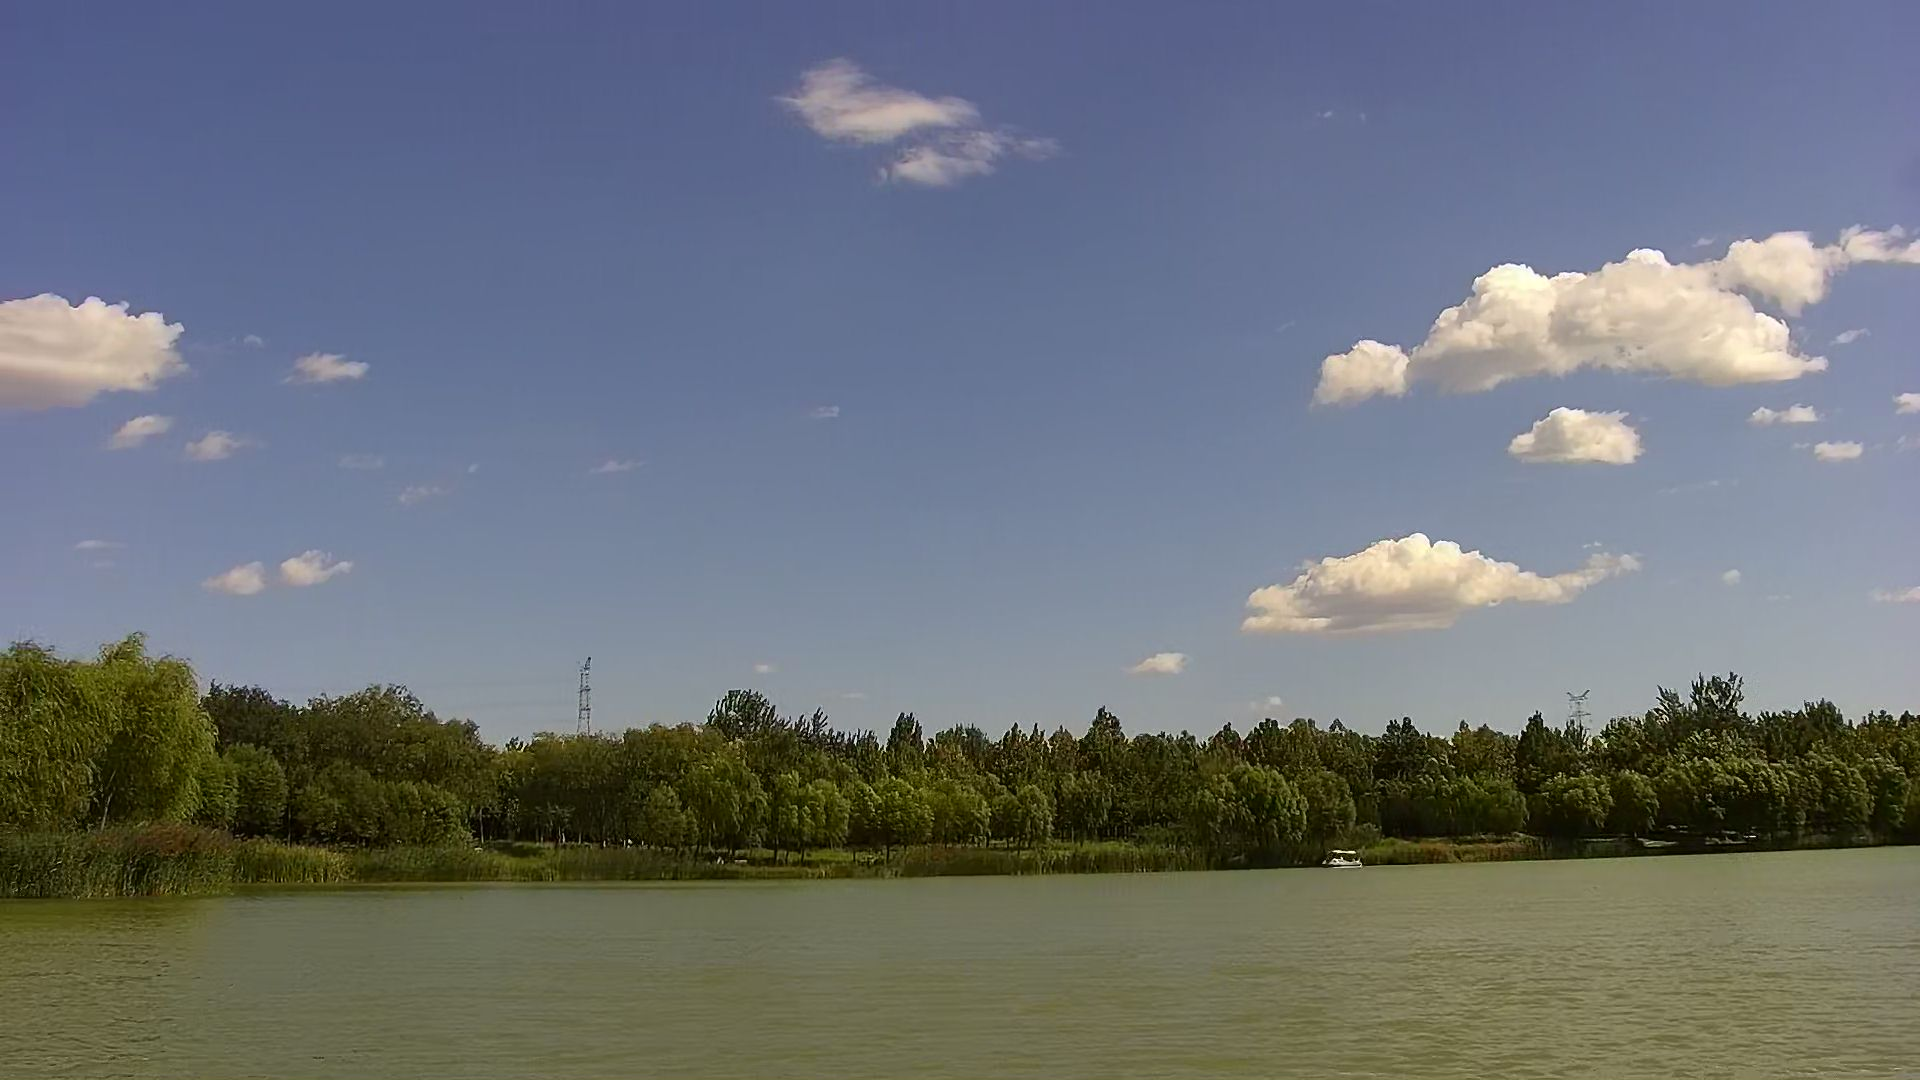boat: (1320, 851, 1366, 870)
